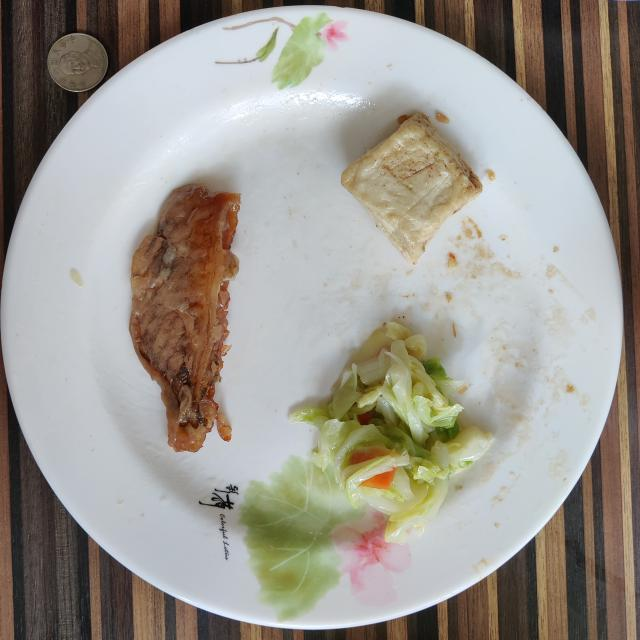Kabayaki sea bream fillet: (130, 184, 240, 451)
cabbage: (289, 322, 494, 542)
coin: (48, 34, 109, 92)
creamy tofu -without sauce-: (341, 112, 482, 264)
